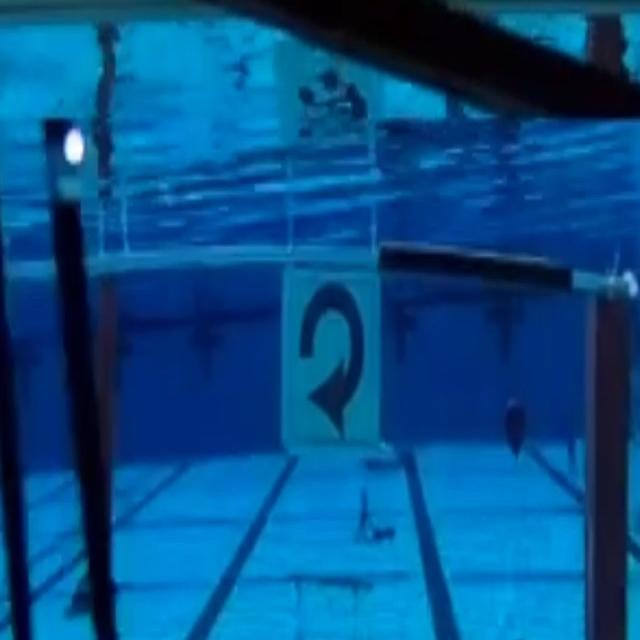Gate: (12, 245, 631, 632)
